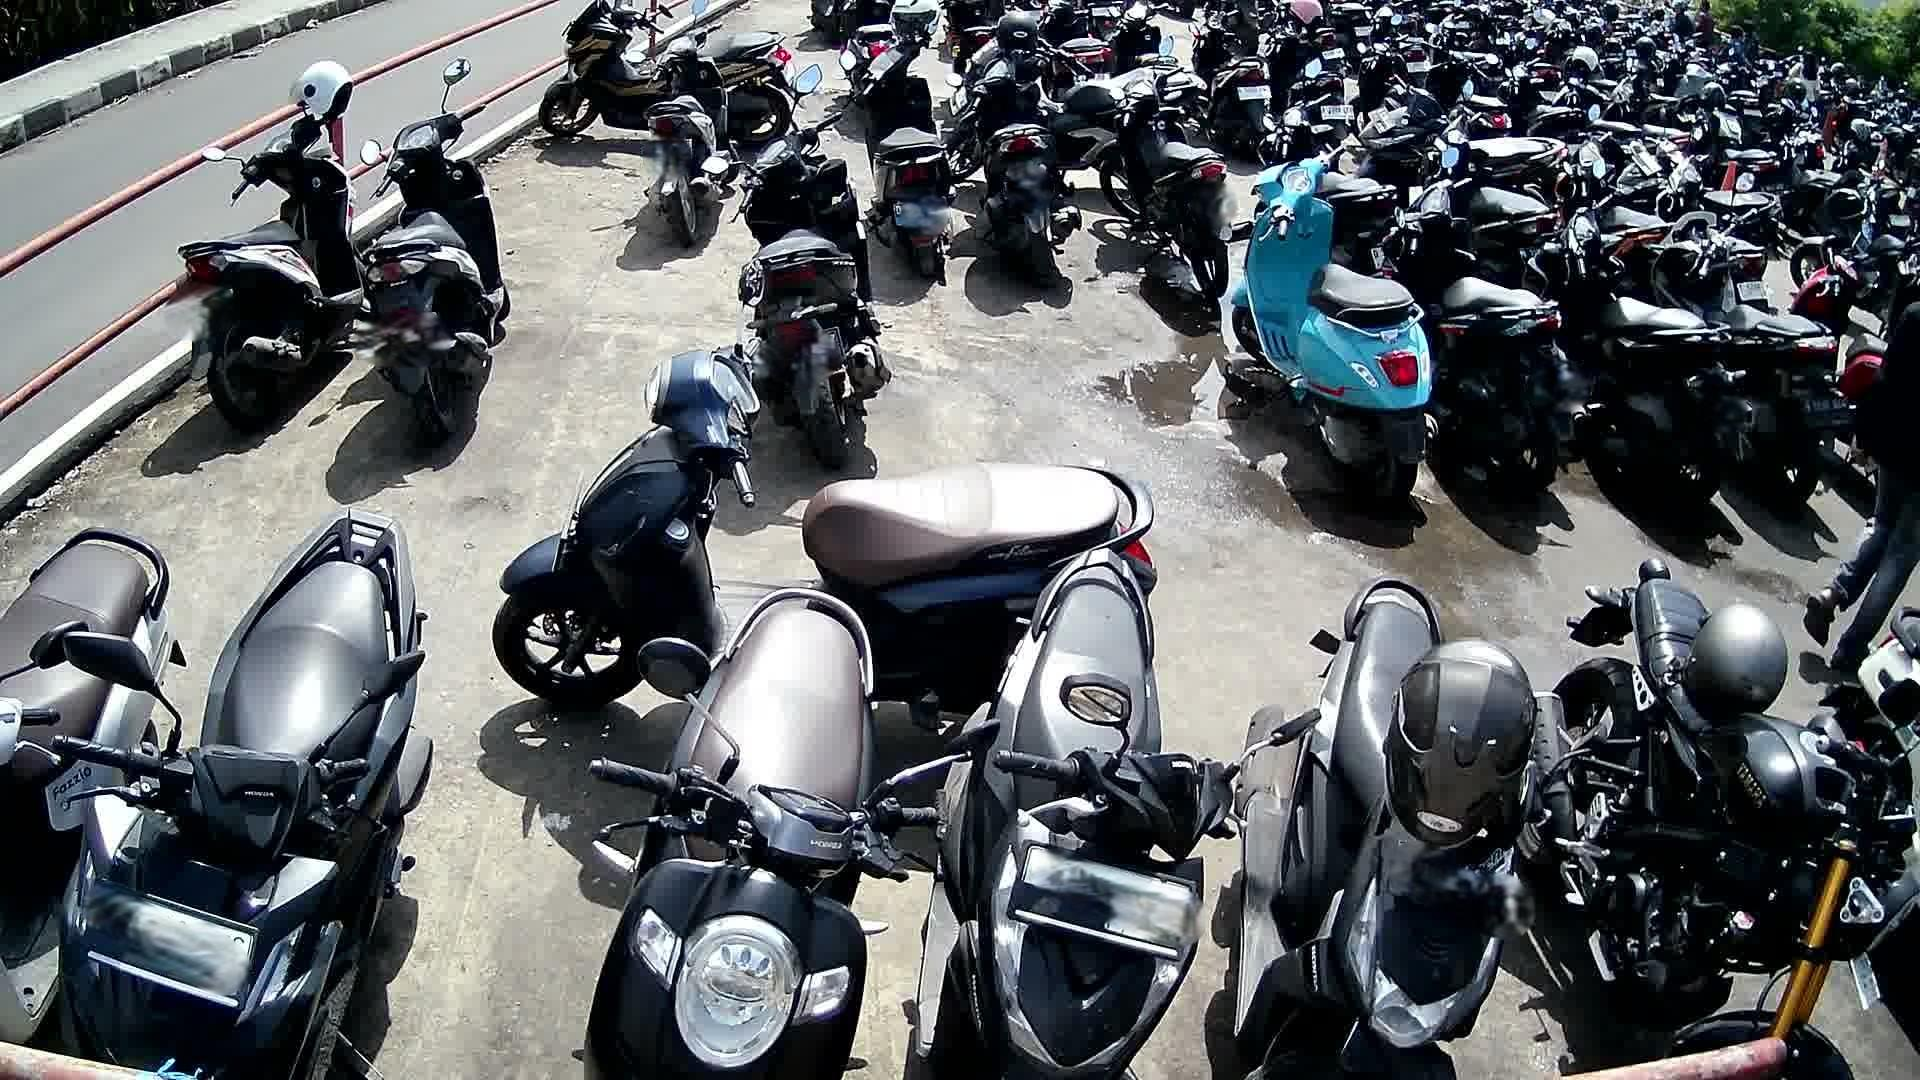motorcycle: (496, 264, 1150, 711), (59, 512, 440, 1080), (1535, 558, 1920, 1080), (918, 554, 1258, 1080), (591, 587, 935, 1080), (1242, 579, 1557, 1080), (0, 524, 196, 1043), (1232, 145, 1441, 505), (1519, 199, 1755, 509), (177, 99, 377, 435), (704, 111, 894, 465), (1375, 171, 1584, 491), (1634, 211, 1858, 505), (351, 98, 513, 439)
